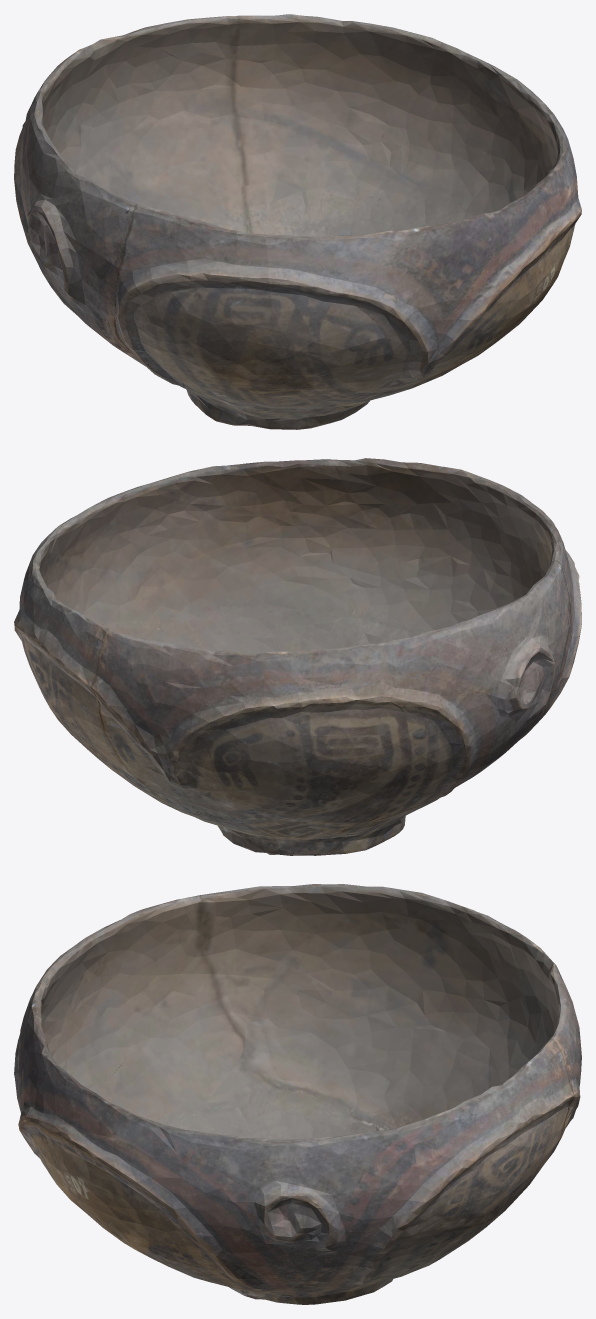
The picture shows the model from 3 angles, top to bottom: view 1: azimuth 30°, elevation 25°; view 2: azimuth 150°, elevation 25°; view 3: azimuth 270°, elevation 25°; orthographic projection.
Visible parts, largest first — view 1: MA0104; view 2: MA0104; view 3: MA0104.
Part boxes in pixels (x1,y1,x2,y2): MA0104: [14, 14, 581, 429]; MA0104: [14, 458, 581, 855]; MA0104: [14, 884, 581, 1304].
Size of the model in its own units: 2.02 by 1.09 by 1.98.
Materials: 1 (1 with a texture image).
